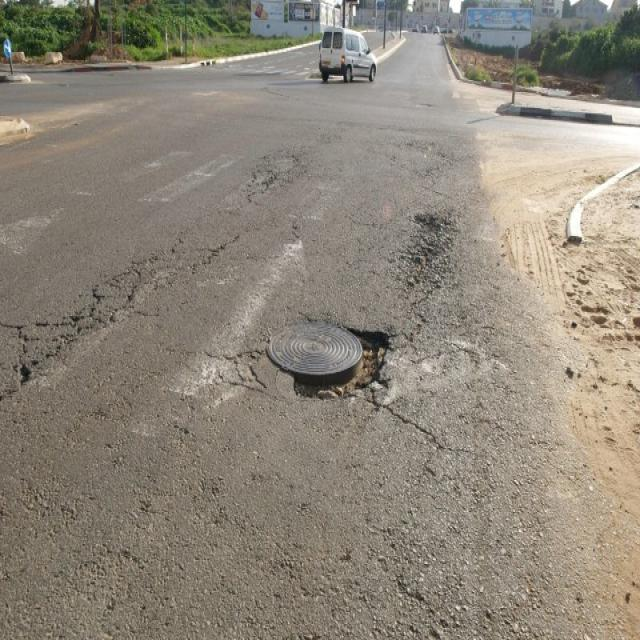major_pothole: (285, 319, 388, 400)
medium_pothole: (410, 208, 442, 232)
